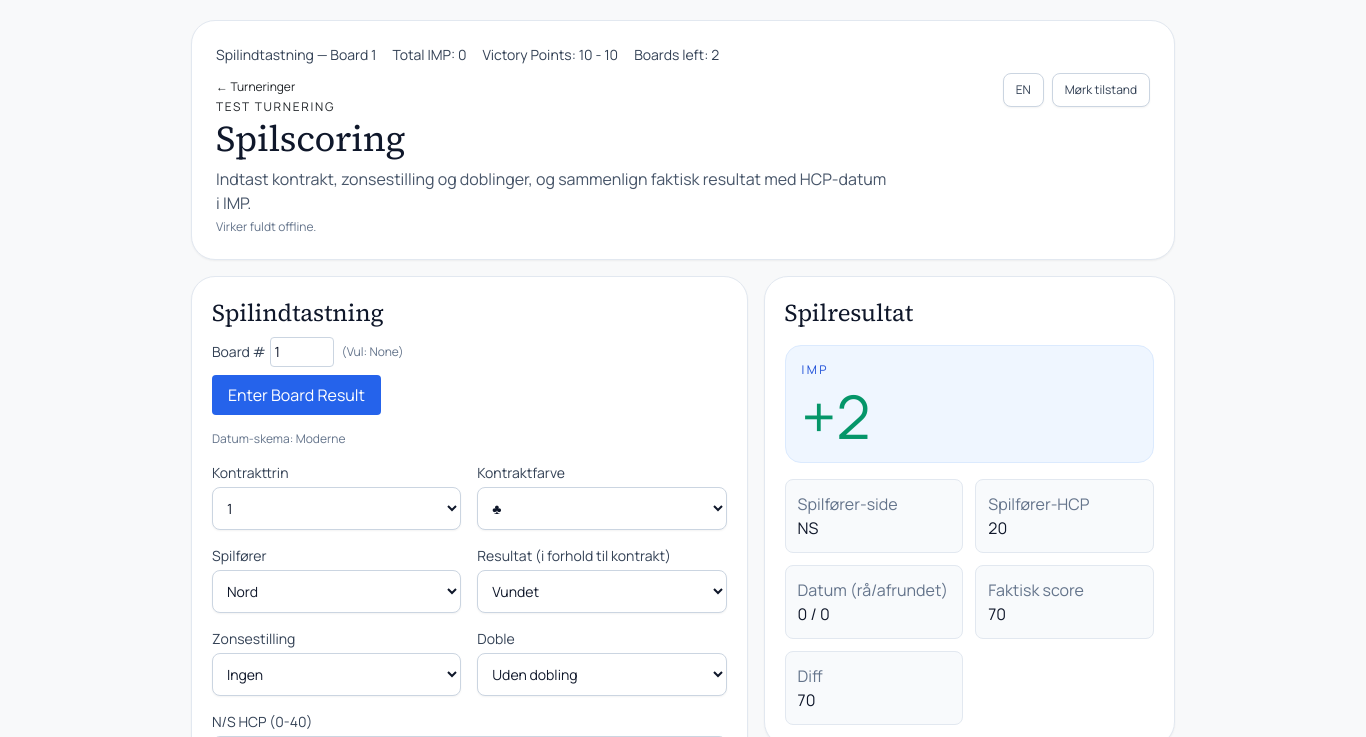
it: BoardEntry › moves to next board after submitting when tournament is not complete
This screenshot has width=1366, height=737.
Click the button "Enter Board Result" at (296,395), box [212,375,381,415]
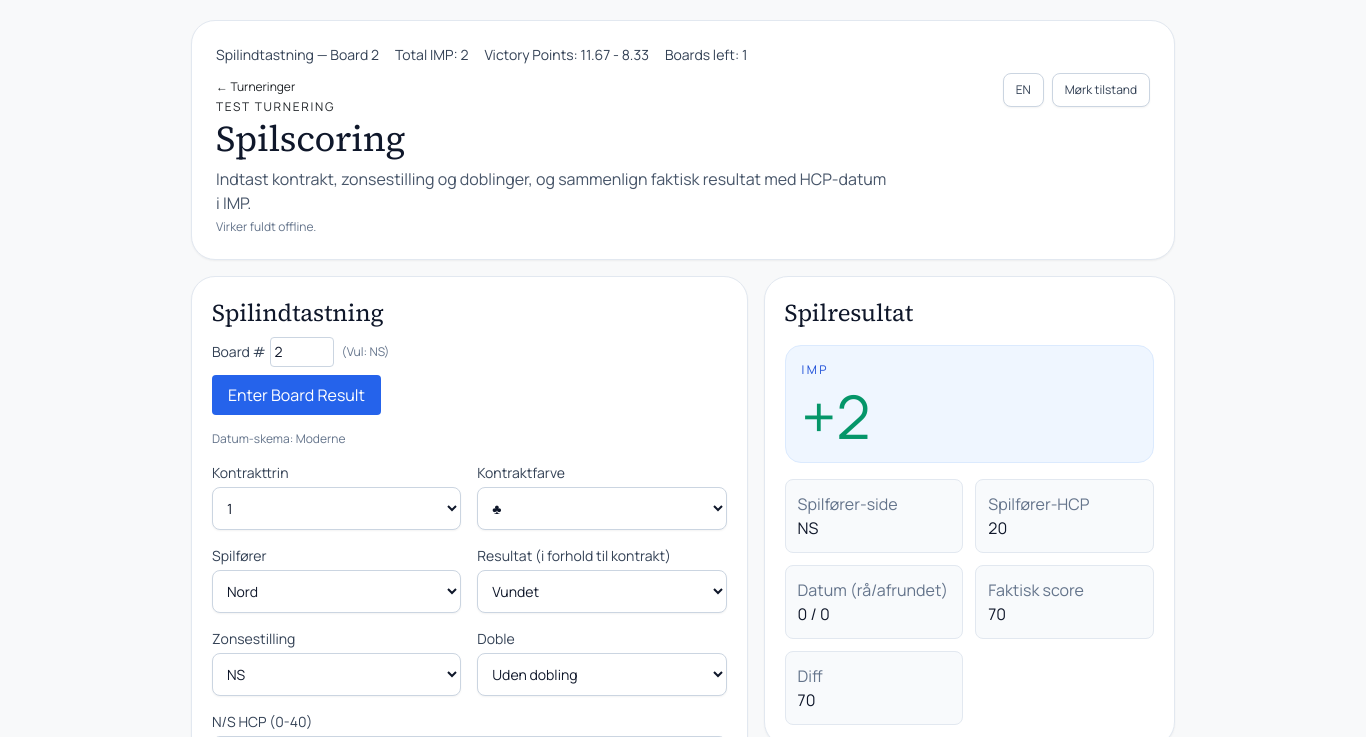
Check: the text "Spilindtastning — Board 2" is shown, box [216,45,379,65]
